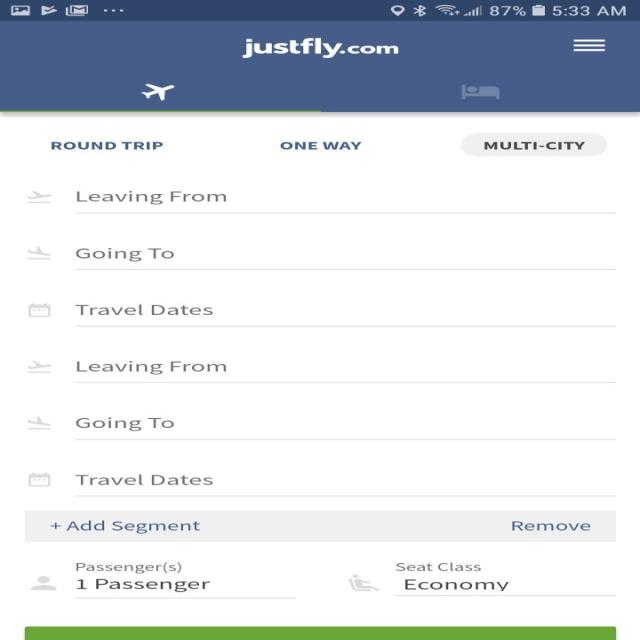Icon: (572, 38, 606, 52), (28, 575, 56, 591), (28, 302, 52, 317), (28, 472, 52, 486), (51, 522, 62, 530)
Image: (140, 83, 174, 101), (460, 84, 500, 99), (346, 574, 379, 591), (26, 246, 52, 260), (26, 416, 52, 430), (26, 360, 52, 373), (27, 190, 52, 203)
Text: (242, 38, 398, 58), (76, 190, 226, 205), (76, 360, 226, 374), (76, 578, 210, 592), (67, 520, 201, 533), (74, 304, 214, 316), (75, 474, 214, 484), (75, 247, 174, 261), (75, 417, 174, 431), (404, 579, 508, 591), (74, 561, 182, 572), (52, 141, 164, 150), (510, 521, 590, 531), (395, 562, 481, 571), (277, 141, 359, 149)
TextButton: (460, 133, 608, 157)
